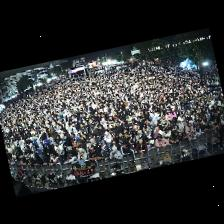person: (120, 142, 135, 166), (54, 141, 65, 161), (136, 139, 147, 157), (60, 135, 71, 152), (155, 134, 168, 148), (88, 146, 101, 160), (169, 131, 182, 144), (88, 139, 100, 151), (34, 144, 43, 160), (109, 147, 121, 159), (65, 150, 77, 162), (75, 138, 86, 151), (40, 136, 51, 149), (88, 125, 98, 138), (127, 132, 135, 148), (49, 153, 58, 167), (102, 145, 110, 160), (77, 148, 86, 161), (117, 132, 126, 145), (103, 132, 111, 146), (144, 127, 152, 141), (162, 128, 170, 142), (162, 120, 173, 130), (110, 139, 119, 150), (201, 121, 210, 132), (184, 122, 192, 134), (19, 155, 28, 165), (177, 118, 183, 133), (187, 130, 195, 141), (168, 108, 175, 120), (42, 152, 49, 164), (91, 134, 99, 144), (34, 155, 42, 165), (194, 125, 200, 138), (192, 116, 199, 127), (99, 140, 104, 155), (135, 130, 141, 142), (147, 140, 155, 149), (212, 119, 219, 129), (154, 125, 161, 135), (160, 114, 166, 125), (209, 122, 215, 133), (14, 156, 20, 165), (170, 126, 178, 132), (23, 152, 29, 159), (153, 132, 158, 139), (220, 116, 223, 126), (10, 158, 14, 165)
